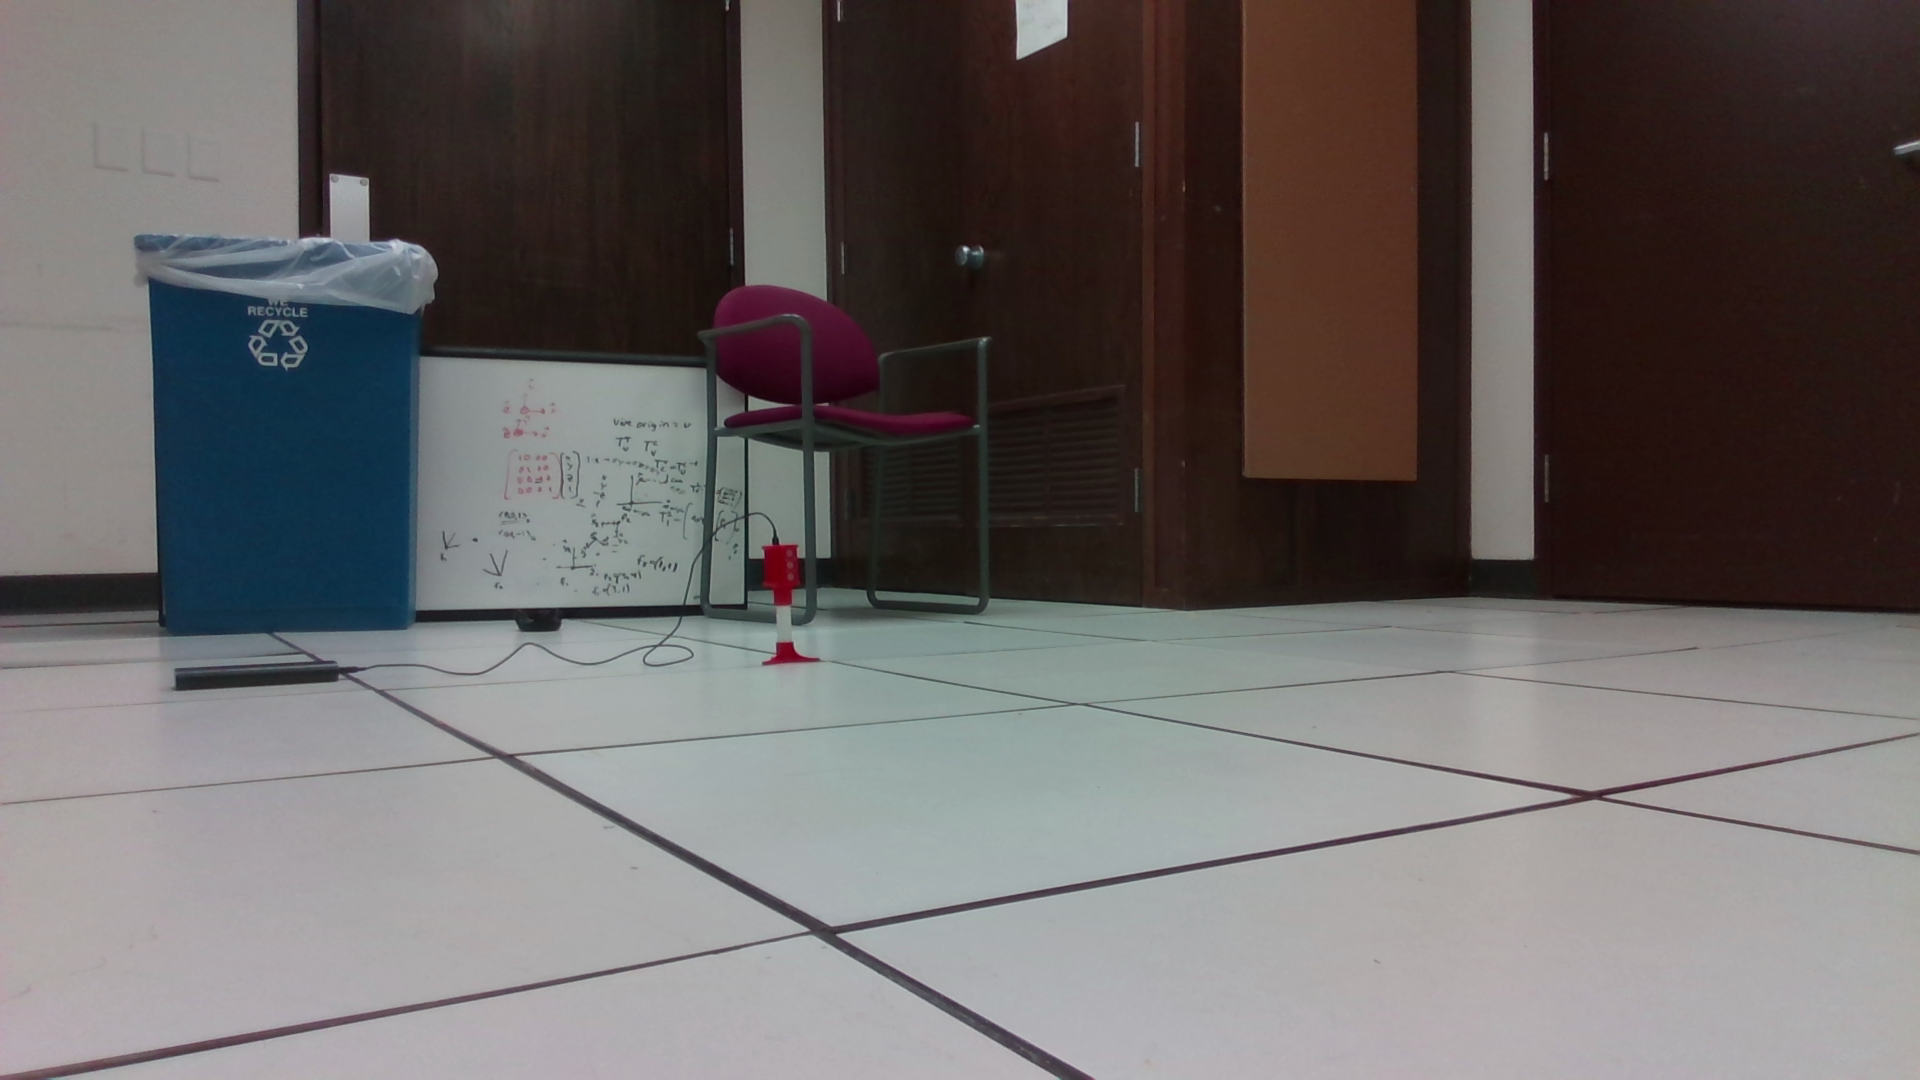stoplight: (764, 546, 800, 608)
